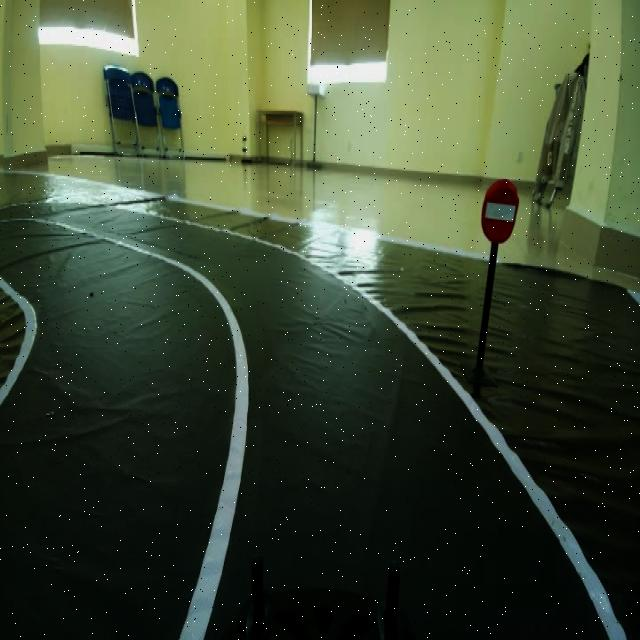no_entry: (478, 174, 524, 258)
